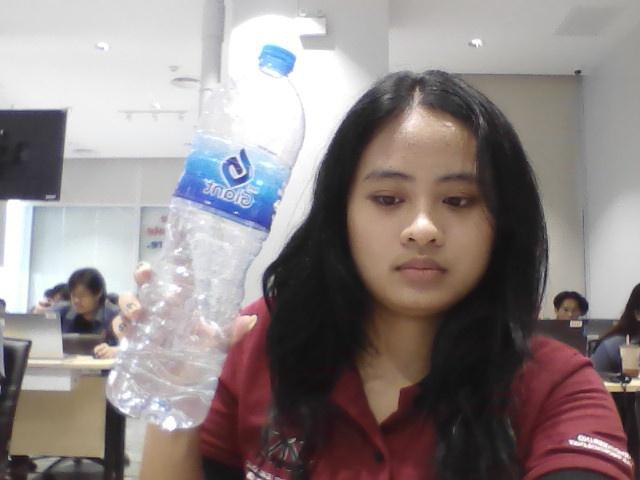bottle: (142, 45, 302, 432)
